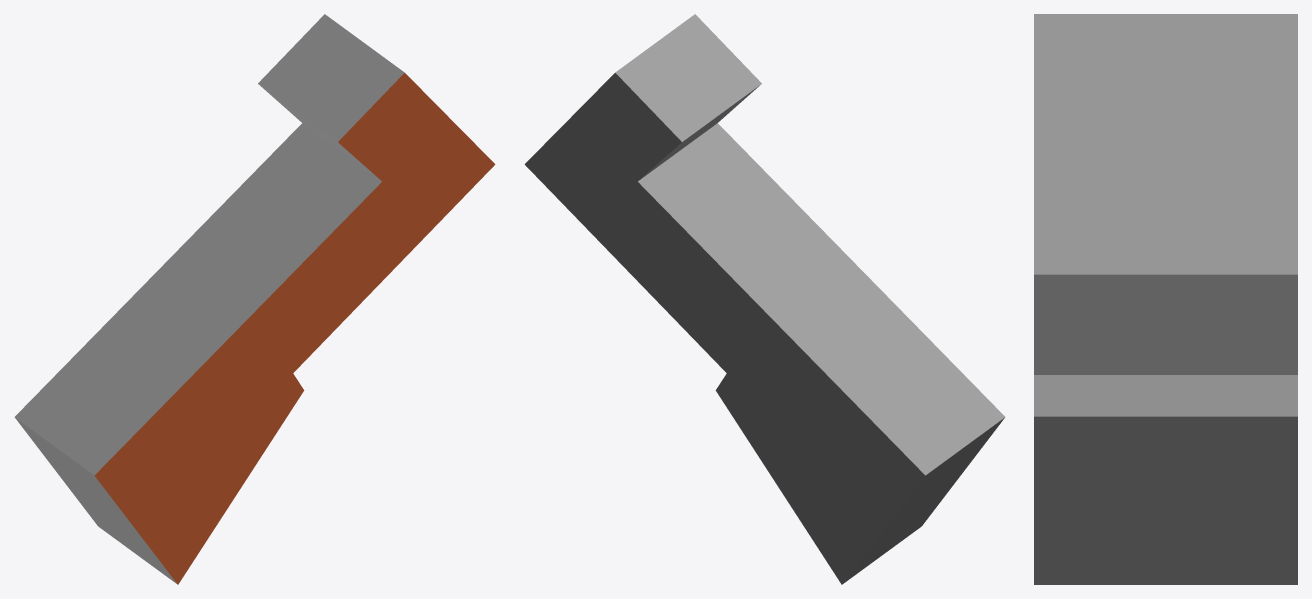
File: construction_0652_assumed_A_Casa_h6m.obj
3 views of the same model, side by side, from view 1: azimuth 30°, elevation 25°; view 2: azimuth 150°, elevation 25°; view 3: azimuth 270°, elevation 25° (orthographic). The views are drawn at different scales.
Parts seen in each view (by area): view 1: construction_0652_assumed_A_Casa; view 2: construction_0652_assumed_A_Casa; view 3: construction_0652_assumed_A_Casa.
Boxes of the visible parts, x1=… form: construction_0652_assumed_A_Casa: x1=14, y1=14, x2=495, y2=584; construction_0652_assumed_A_Casa: x1=524, y1=14, x2=1005, y2=584; construction_0652_assumed_A_Casa: x1=1034, y1=14, x2=1297, y2=584.
Size of the model in its own units: 17.36 by 18.91 by 6.
